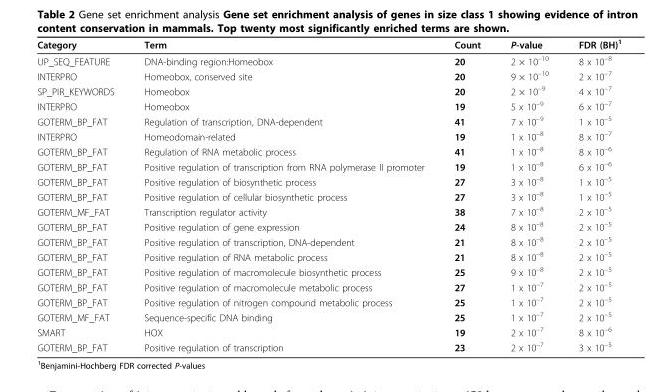table: (36, 37, 620, 352)
table column: (128, 37, 438, 352), (36, 37, 128, 352), (494, 37, 562, 352), (562, 37, 620, 352), (438, 37, 494, 352)
table column header: (36, 37, 620, 52)
table row: (36, 82, 620, 98), (36, 323, 620, 339), (36, 37, 620, 52), (36, 52, 620, 67), (36, 67, 620, 82), (36, 98, 620, 113), (36, 113, 620, 128), (36, 128, 620, 143), (36, 143, 620, 158), (36, 158, 620, 173), (36, 173, 620, 188), (36, 188, 620, 203), (36, 203, 620, 218), (36, 218, 620, 233), (36, 233, 620, 248), (36, 248, 620, 263), (36, 263, 620, 278), (36, 278, 620, 293), (36, 293, 620, 308), (36, 308, 620, 323), (36, 339, 620, 352)
